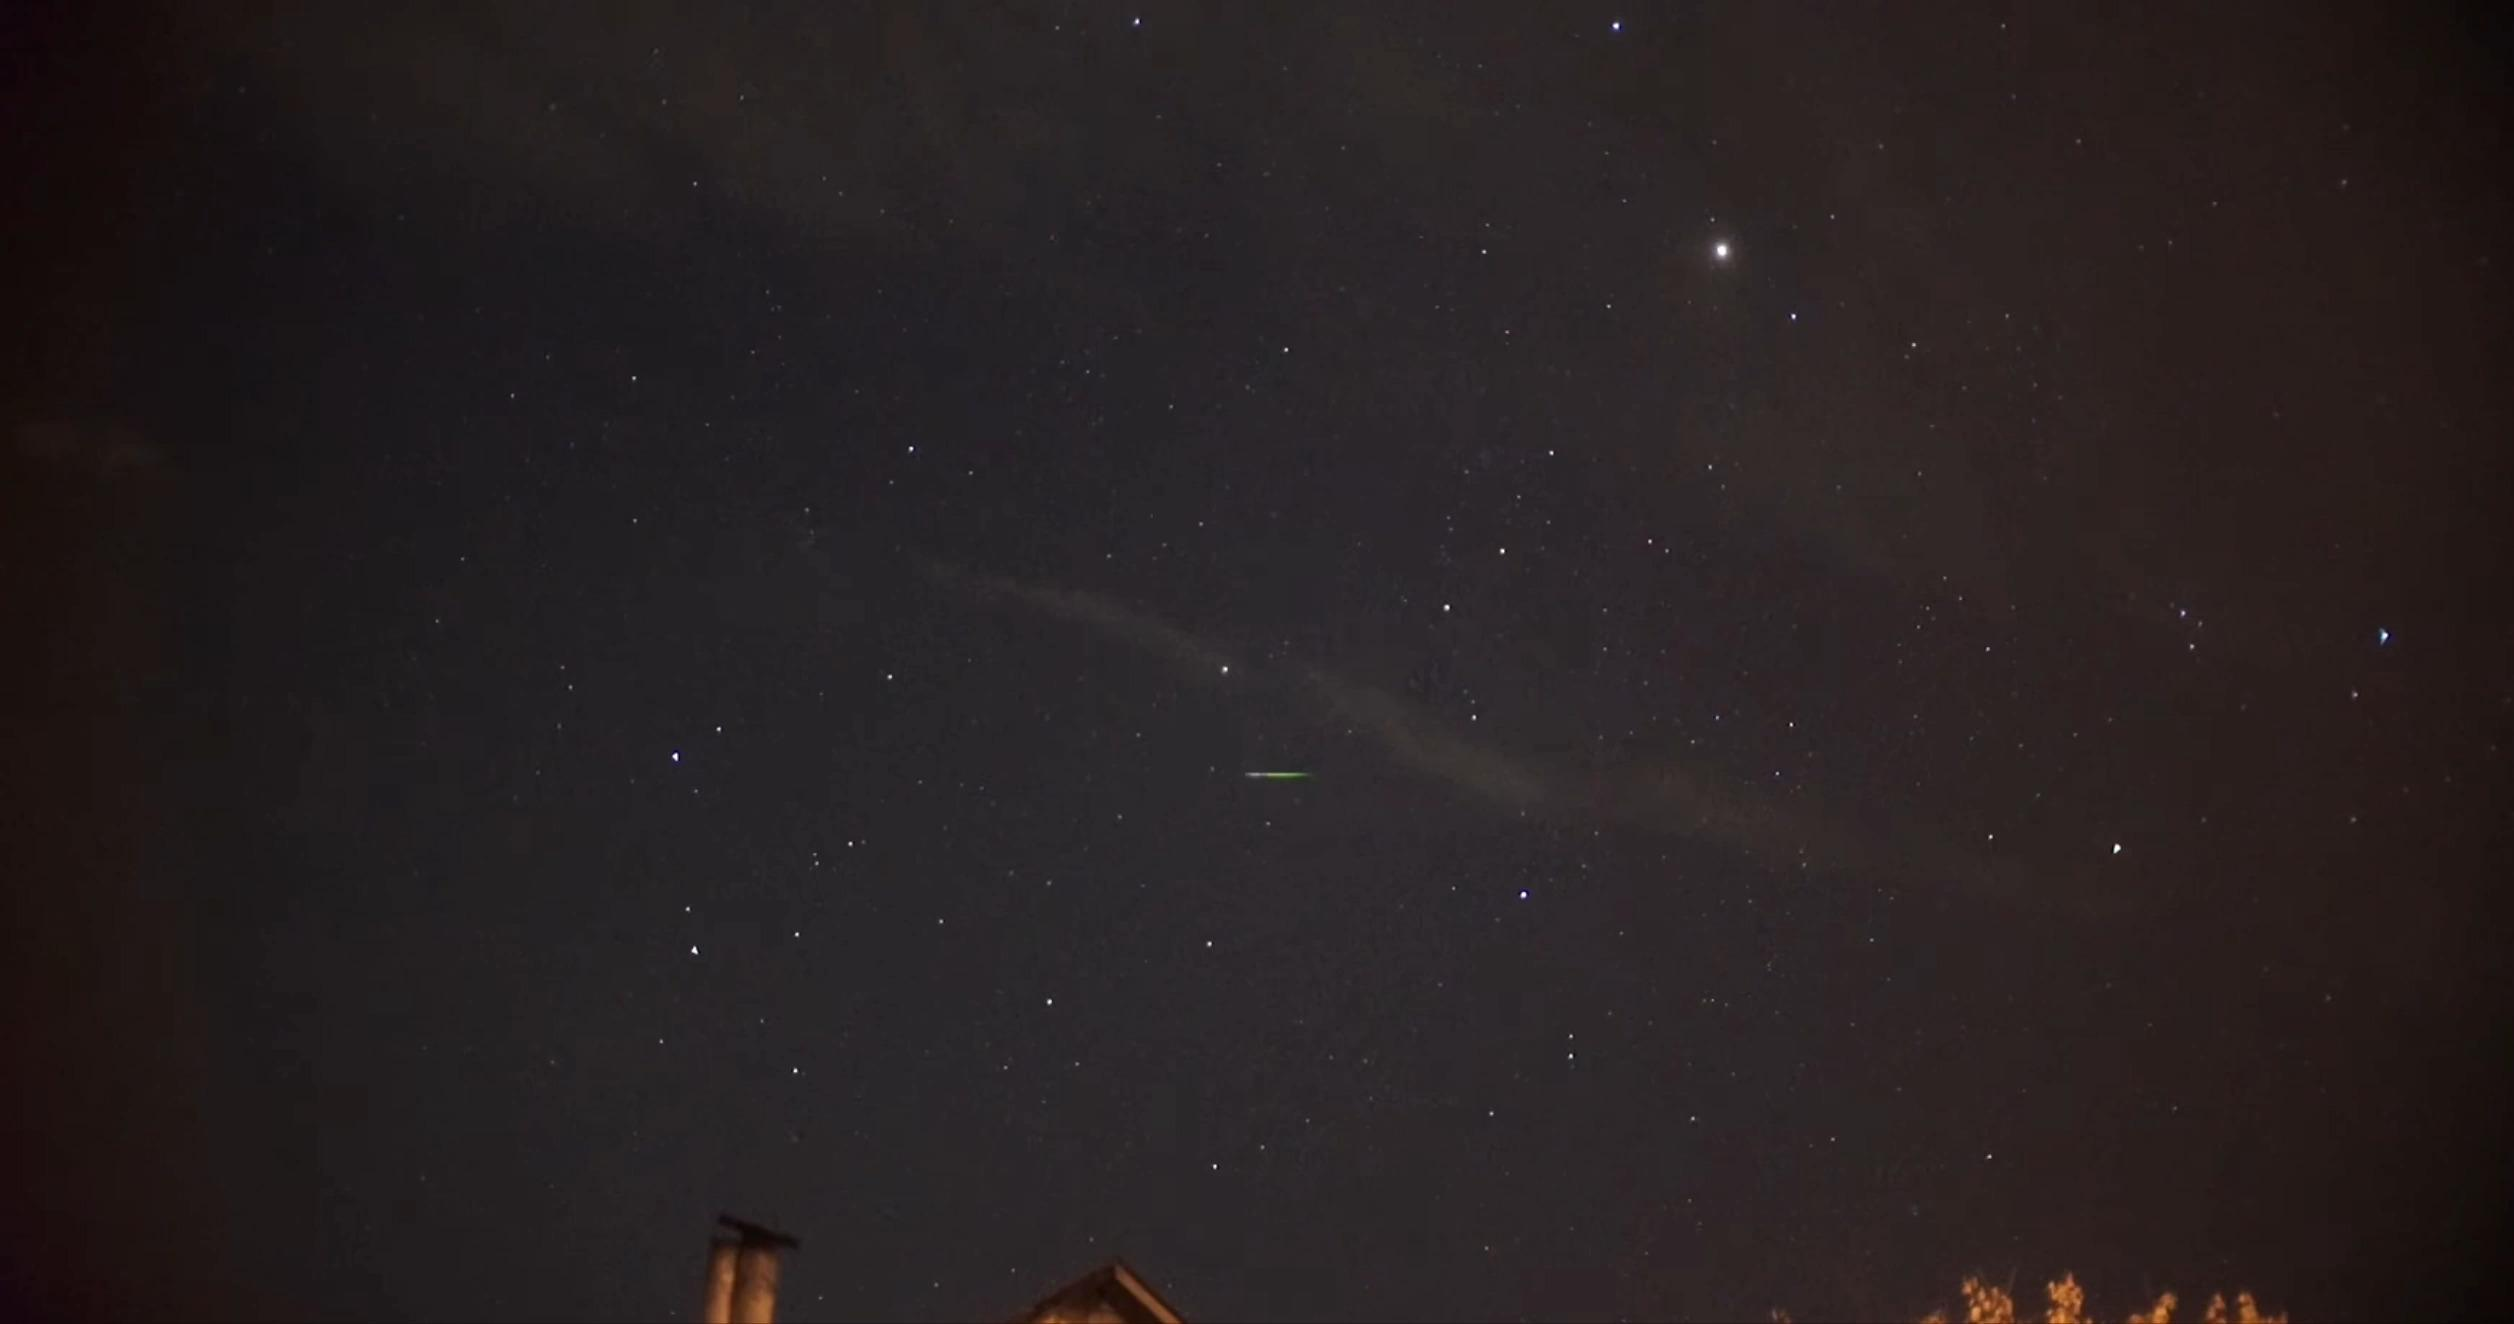meteorite: (1220, 758, 1325, 783)
